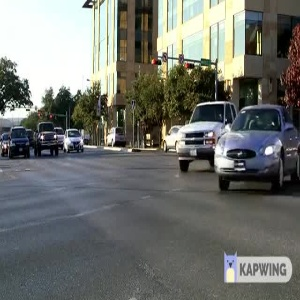car: (213, 97, 298, 202), (58, 123, 90, 159)
suv: (100, 122, 129, 153)
truck: (171, 99, 240, 178), (29, 122, 63, 158)
van: (4, 123, 33, 163)
